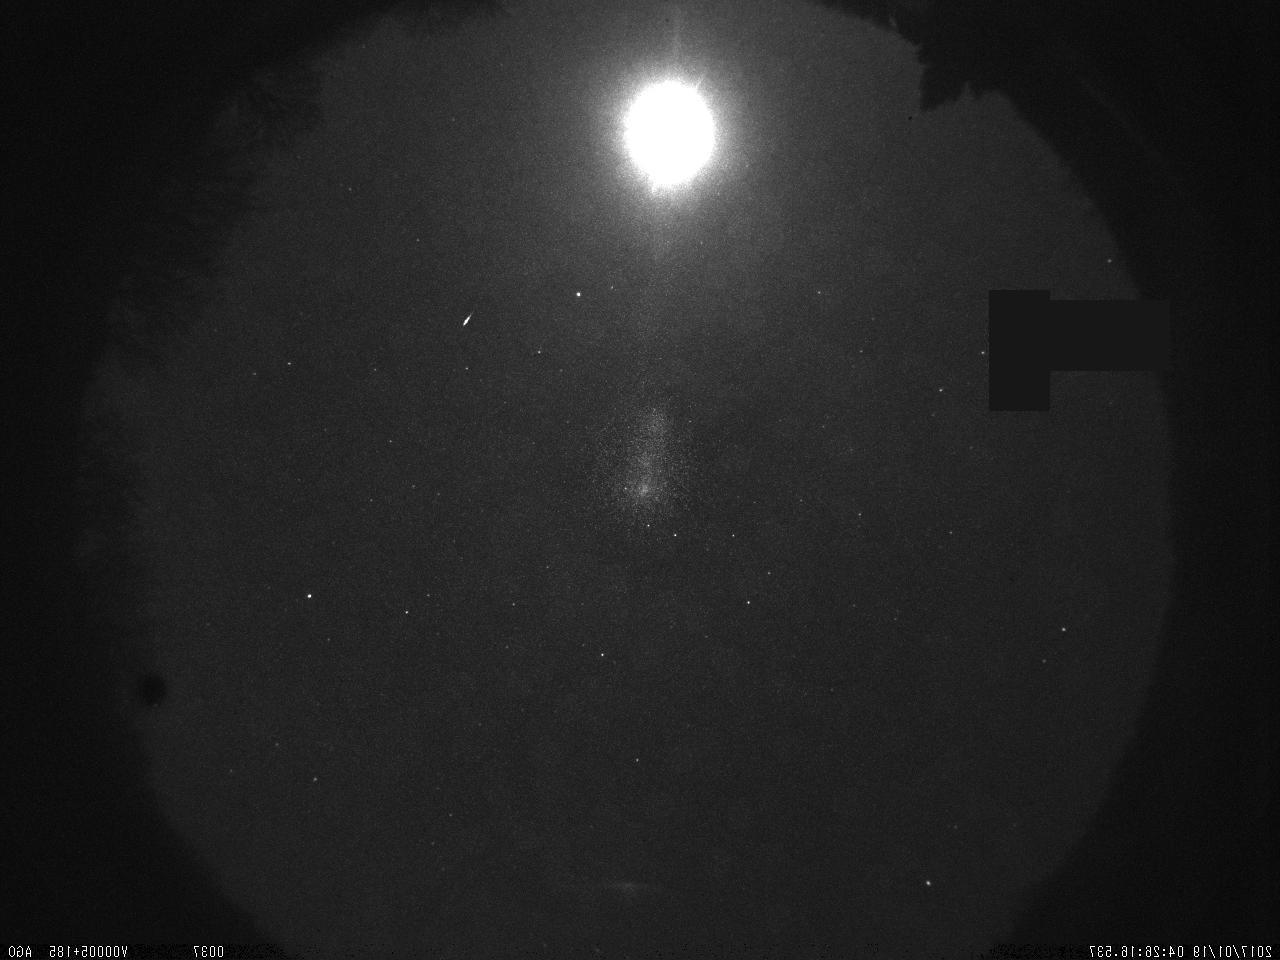meteor: (455, 306, 477, 336)
